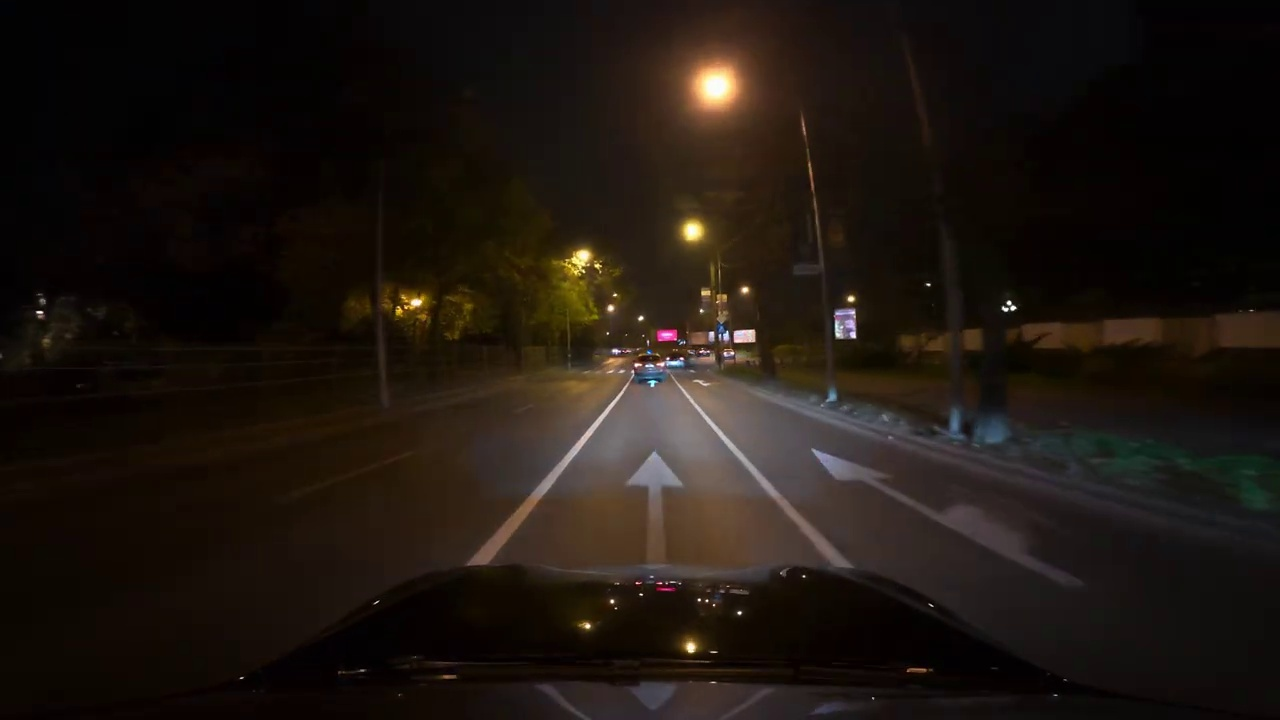acesa: (693, 67, 735, 107), (679, 218, 707, 245), (565, 248, 593, 274)
